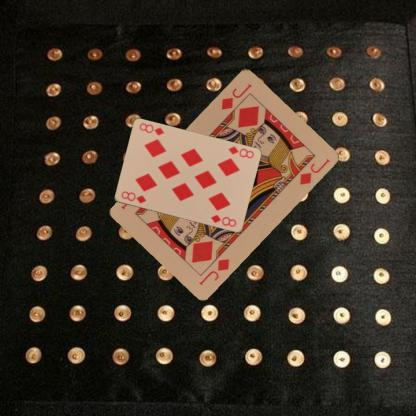8d: (118, 189, 147, 205), (225, 144, 255, 159)
Jd: (218, 80, 253, 111), (197, 255, 231, 286)
